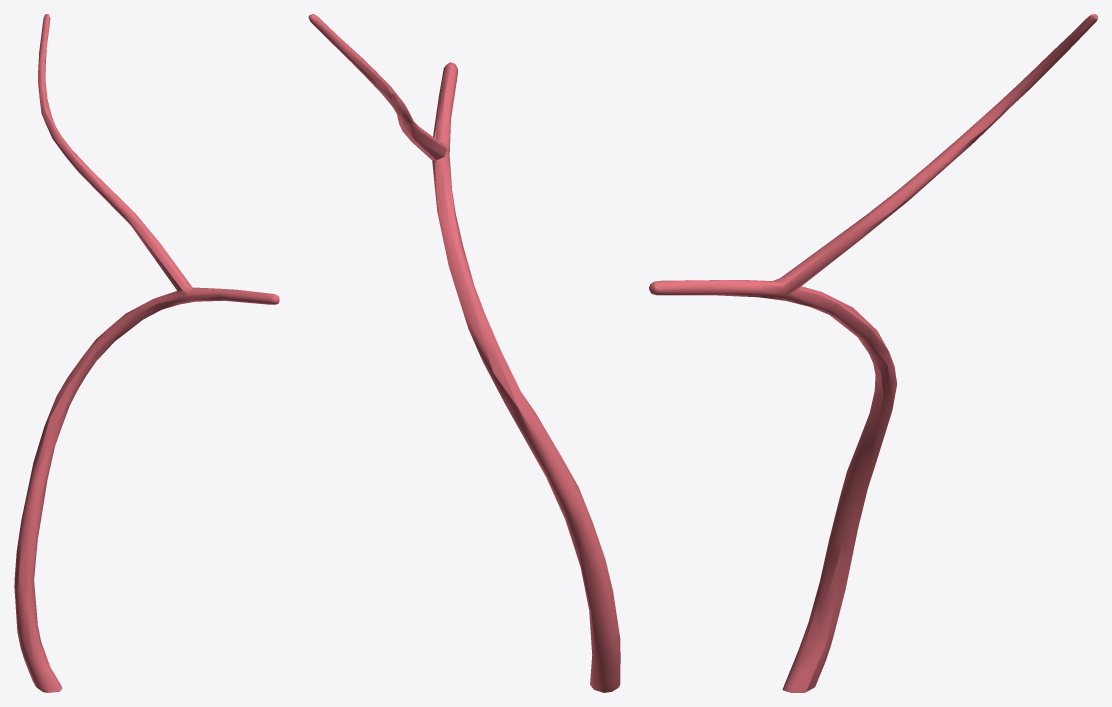
Rendered from fma10700_fj2308.glb.
3 views of the same model, side by side, from view 1: azimuth 30°, elevation 25°; view 2: azimuth 150°, elevation 25°; view 3: azimuth 270°, elevation 25° (orthographic). The views are drawn at different scales.
Parts seen in each view (by area): view 1: FMA10700_FJ2308; view 2: FMA10700_FJ2308; view 3: FMA10700_FJ2308.
Part boxes in pixels (<box>): FMA10700_FJ2308: <box>14,14,279,692</box>; FMA10700_FJ2308: <box>308,14,620,692</box>; FMA10700_FJ2308: <box>649,14,1097,692</box>.
Size of the model in its own units: 0.0156 by 0.0429 by 0.0235.
